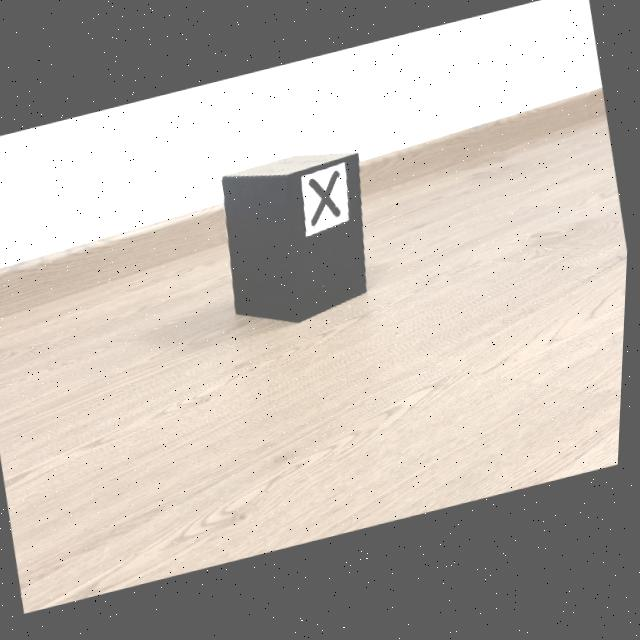X: (312, 175, 344, 231)
